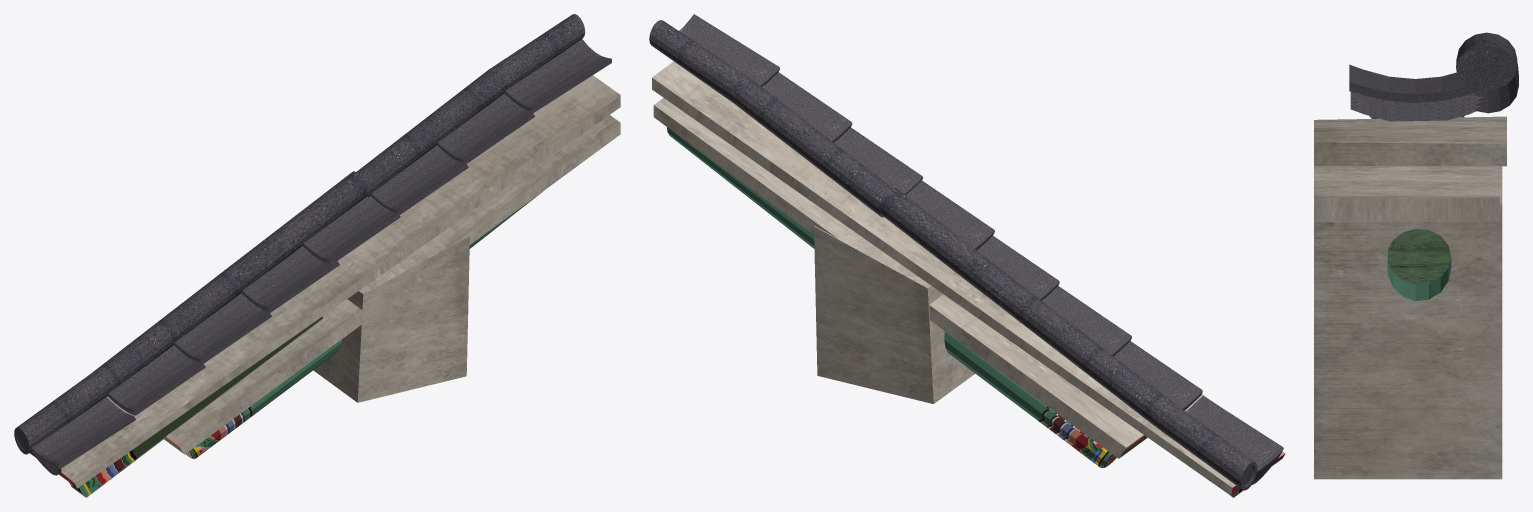
File: SM_Roof_27.fbx
3 views of the same model, side by side, from view 1: azimuth 30°, elevation 25°; view 2: azimuth 150°, elevation 25°; view 3: azimuth 270°, elevation 25° (orthographic). The views are drawn at different scales.
Visible parts, largest first — view 1: SM_Roof_27; view 2: SM_Roof_27; view 3: SM_Roof_27.
Part boxes in pixels (<box>): SM_Roof_27: <box>14,14,620,497</box>; SM_Roof_27: <box>649,14,1285,497</box>; SM_Roof_27: <box>1314,32,1518,479</box>.
Size of the model in its own units: 538 by 85.69 by 306.
4 materials, 4 textured.
